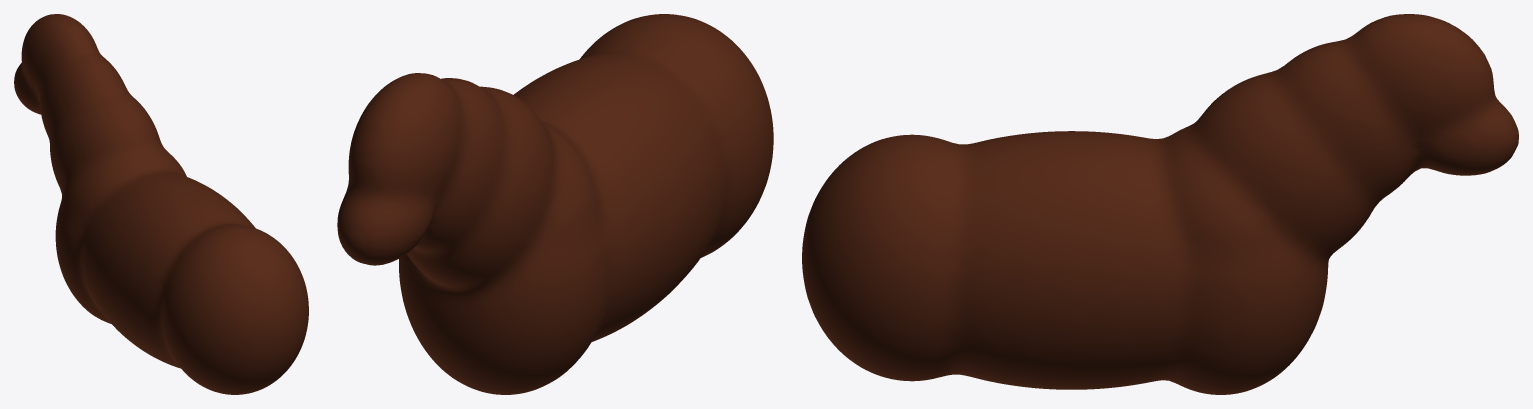
Rendered from village_horse_body.glb.
3 views of the same model, side by side, from view 1: azimuth 30°, elevation 25°; view 2: azimuth 150°, elevation 25°; view 3: azimuth 270°, elevation 25° (orthographic). The views are drawn at different scales.
Visible parts, largest first — view 1: BayHorseBody; view 2: BayHorseBody; view 3: BayHorseBody.
Part boxes in pixels (x1,y1,x2,y2): BayHorseBody: [14, 14, 308, 394]; BayHorseBody: [337, 14, 773, 394]; BayHorseBody: [802, 14, 1518, 394].
Bounding box in the file's own units: 0.8539 × 1.5 × 2.65.
